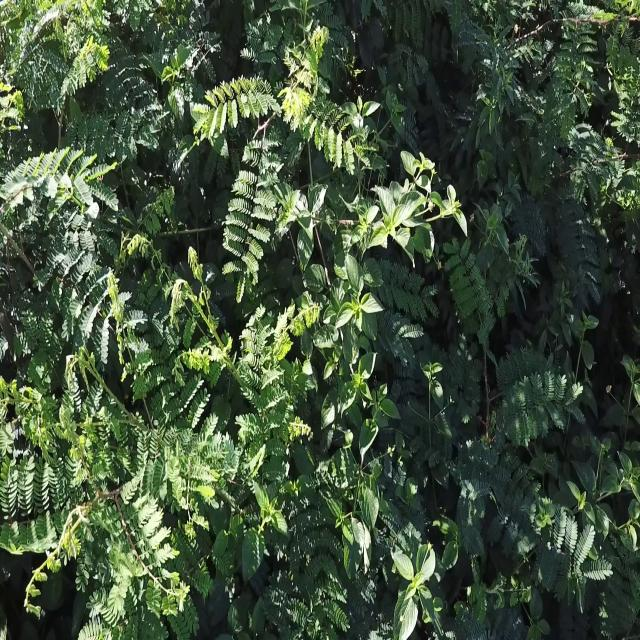Mysore-Thorn-Weed: (0, 244, 242, 619), (388, 242, 612, 615), (190, 0, 378, 314), (240, 317, 354, 639), (0, 0, 218, 148), (523, 17, 594, 291), (385, 0, 463, 123), (0, 146, 124, 219), (600, 12, 638, 98)
